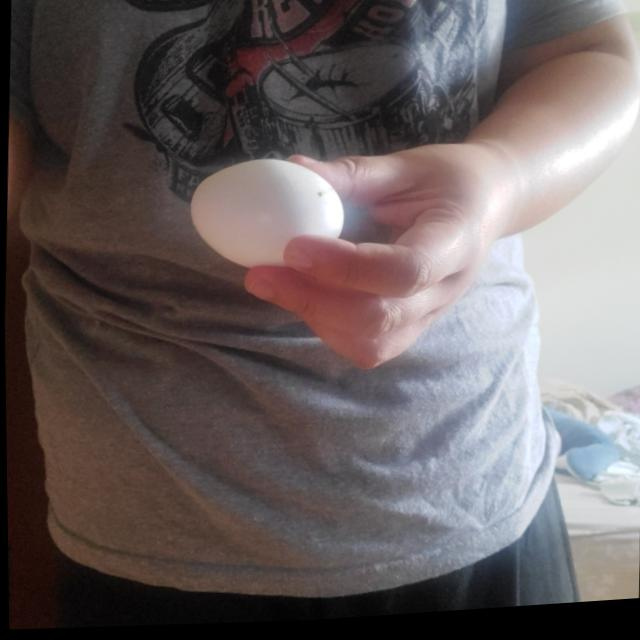egg: (180, 155, 345, 271)
